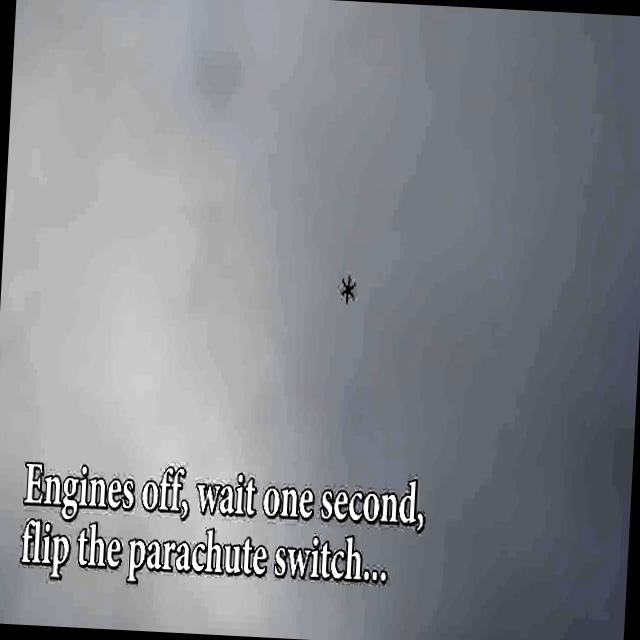drone: (336, 271, 361, 304)
